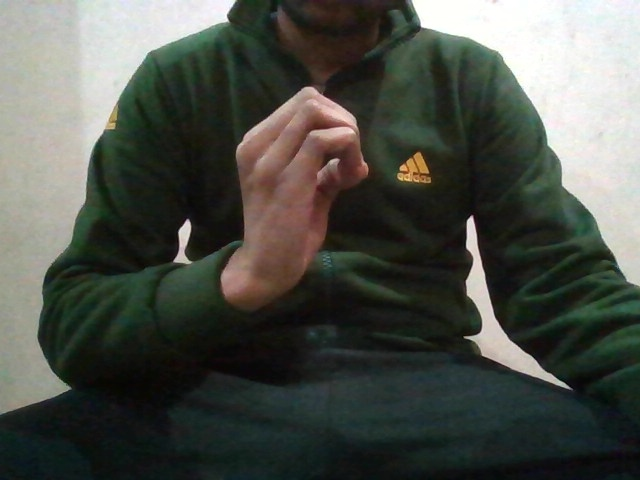O: (224, 79, 375, 275)
